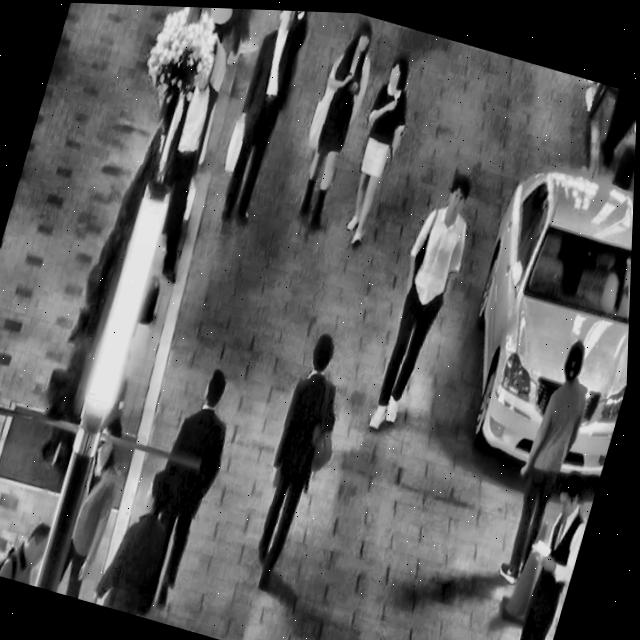light_vehicle: (431, 129, 637, 491)
